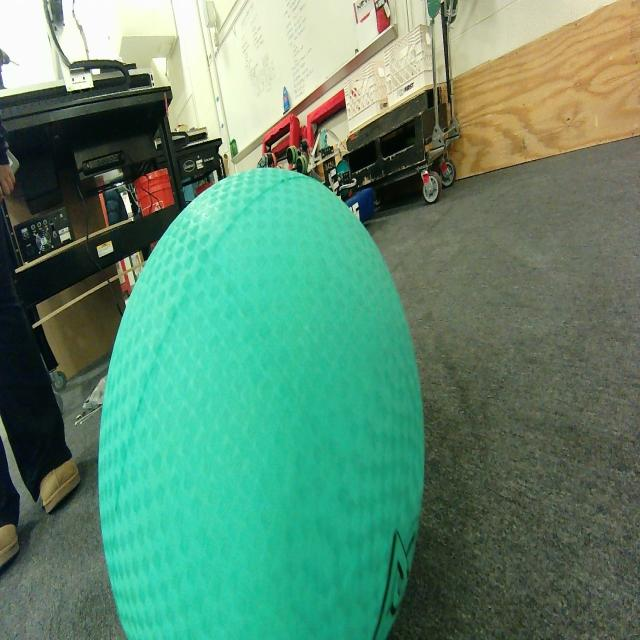algae: (88, 158, 436, 640)
